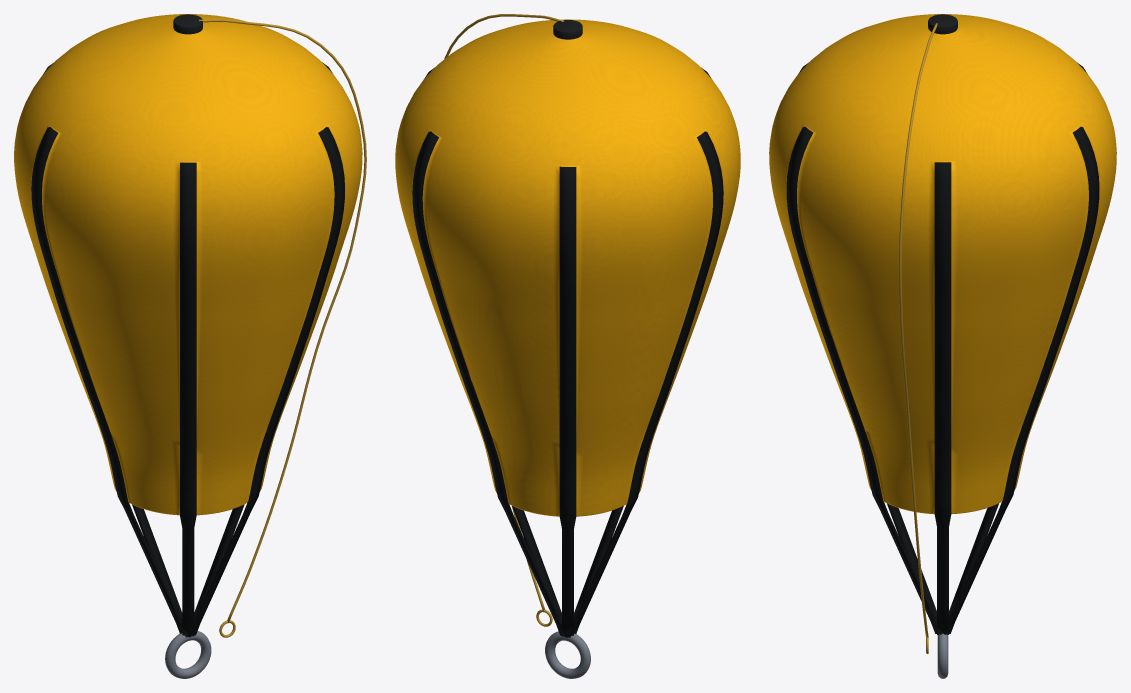
The model's file is NEW691_LiftBag_LOD0.glb.
The picture shows the model from 3 angles, left to right: view 1: azimuth 30°, elevation 25°; view 2: azimuth 150°, elevation 25°; view 3: azimuth 270°, elevation 25°; orthographic projection.
Visible parts, largest first — view 1: Open_bottom_cloth_with_six_harness_legs, External_dump_pull_line, Single_vertical_metal_load_ring, External_top_dump_valve; view 2: Open_bottom_cloth_with_six_harness_legs, Single_vertical_metal_load_ring, External_dump_pull_line, External_top_dump_valve; view 3: Open_bottom_cloth_with_six_harness_legs, External_dump_pull_line, Single_vertical_metal_load_ring.
Boxes of the visible parts, x1=… form: Open_bottom_cloth_with_six_harness_legs: x1=14, y1=14, x2=362, y2=637; External_dump_pull_line: x1=198, y1=19, x2=366, y2=623; Single_vertical_metal_load_ring: x1=165, y1=631, x2=211, y2=678; External_top_dump_valve: x1=173, y1=14, x2=202, y2=34; Open_bottom_cloth_with_six_harness_legs: x1=395, y1=19, x2=740, y2=637; Single_vertical_metal_load_ring: x1=545, y1=631, x2=590, y2=678; External_dump_pull_line: x1=444, y1=14, x2=563, y2=612; External_top_dump_valve: x1=553, y1=20, x2=582, y2=39; Open_bottom_cloth_with_six_harness_legs: x1=769, y1=14, x2=1116, y2=634; External_dump_pull_line: x1=899, y1=23, x2=937, y2=637; Single_vertical_metal_load_ring: x1=937, y1=633, x2=948, y2=678.
Size of the model in its own units: 1.03 by 2.1 by 1.01.
Materials: 5 (5 with a texture image).
